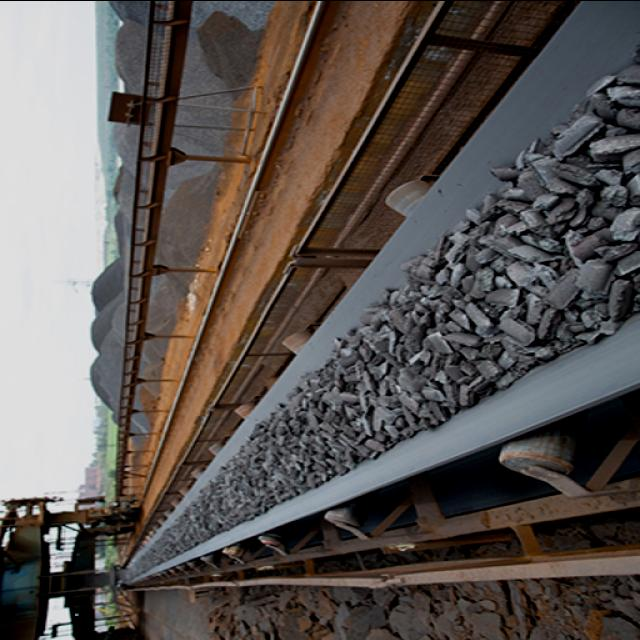conveyor: (123, 0, 639, 584)
